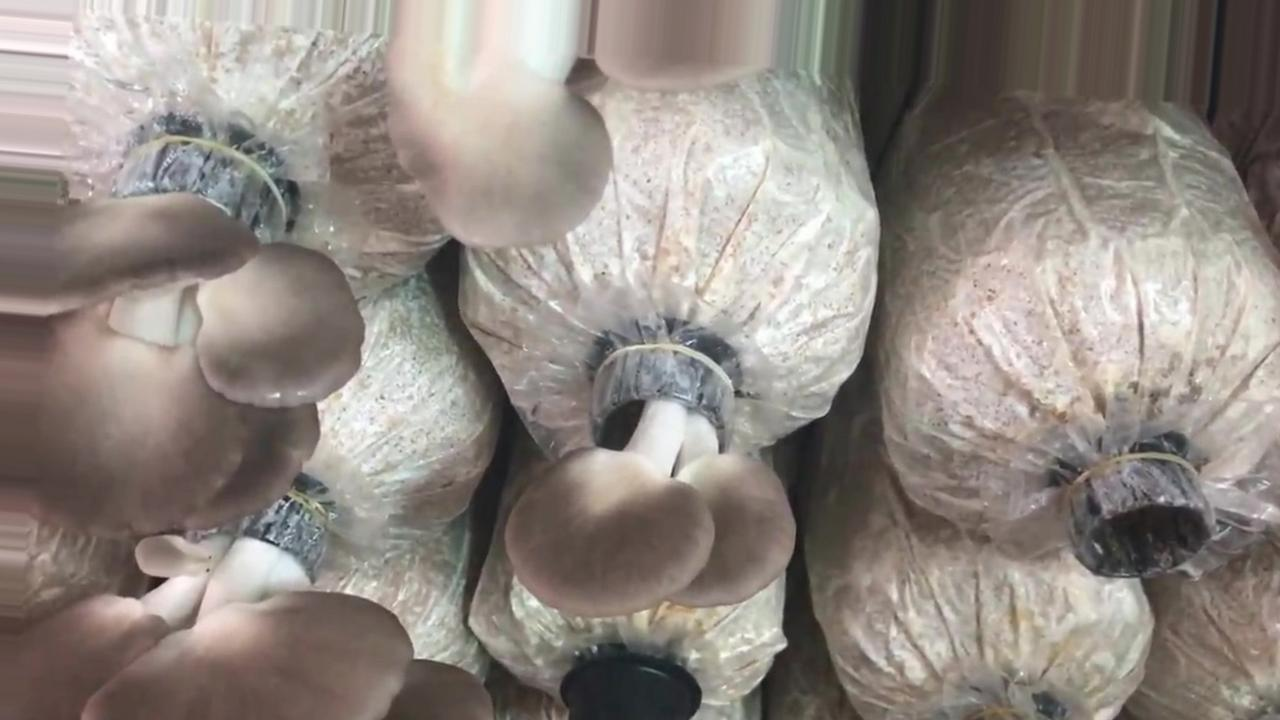nam: (1, 135, 357, 537), (1, 493, 488, 719), (389, 1, 778, 243), (511, 341, 793, 618)
